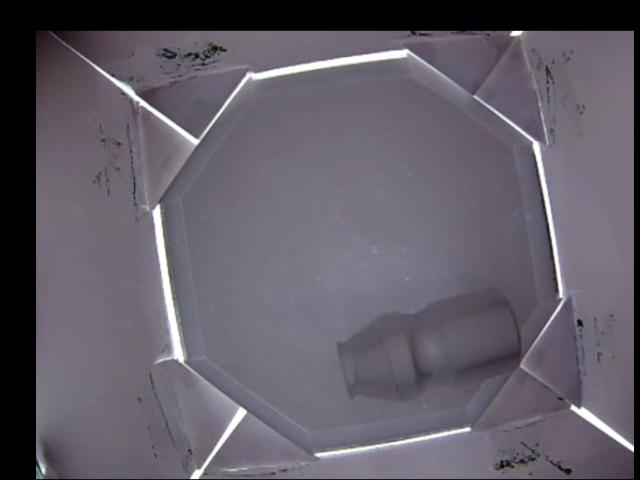Bottle: (334, 284, 525, 396)
